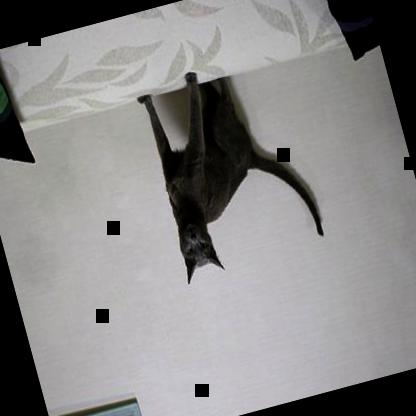cat: (135, 51, 327, 285)
